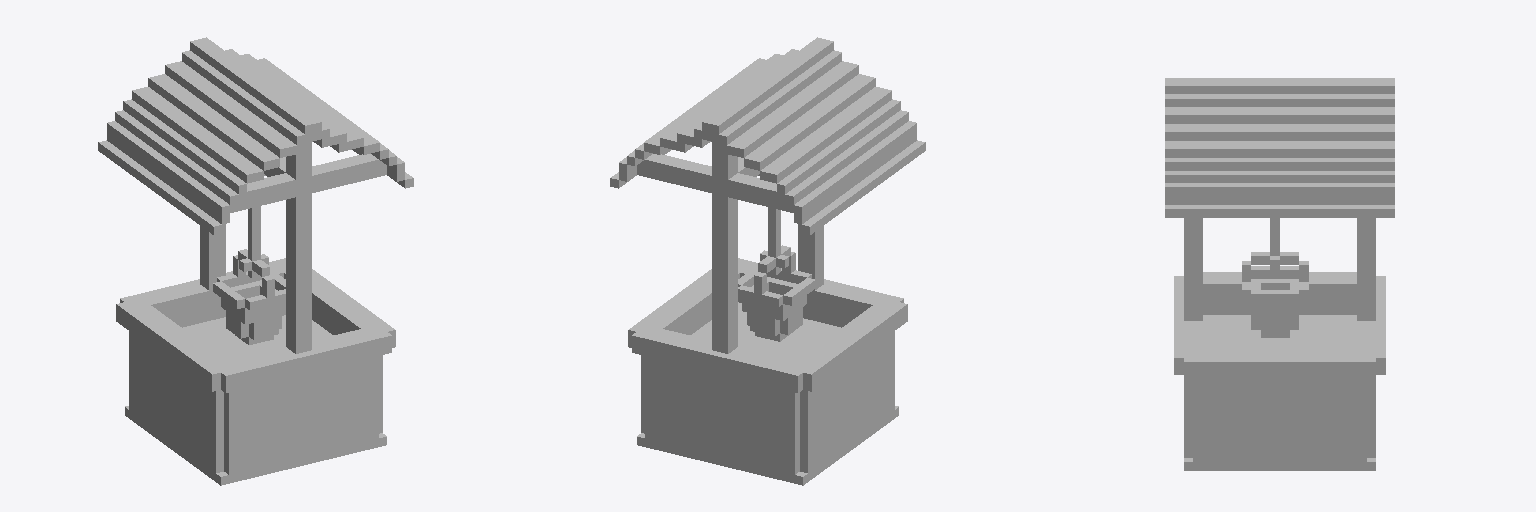
File: Tarefa Poço-07.obj
3 views of the same model, side by side, from view 1: azimuth 30°, elevation 25°; view 2: azimuth 150°, elevation 25°; view 3: azimuth 270°, elevation 25° (orthographic).
Size of the model in its own units: 24 by 40 by 24.